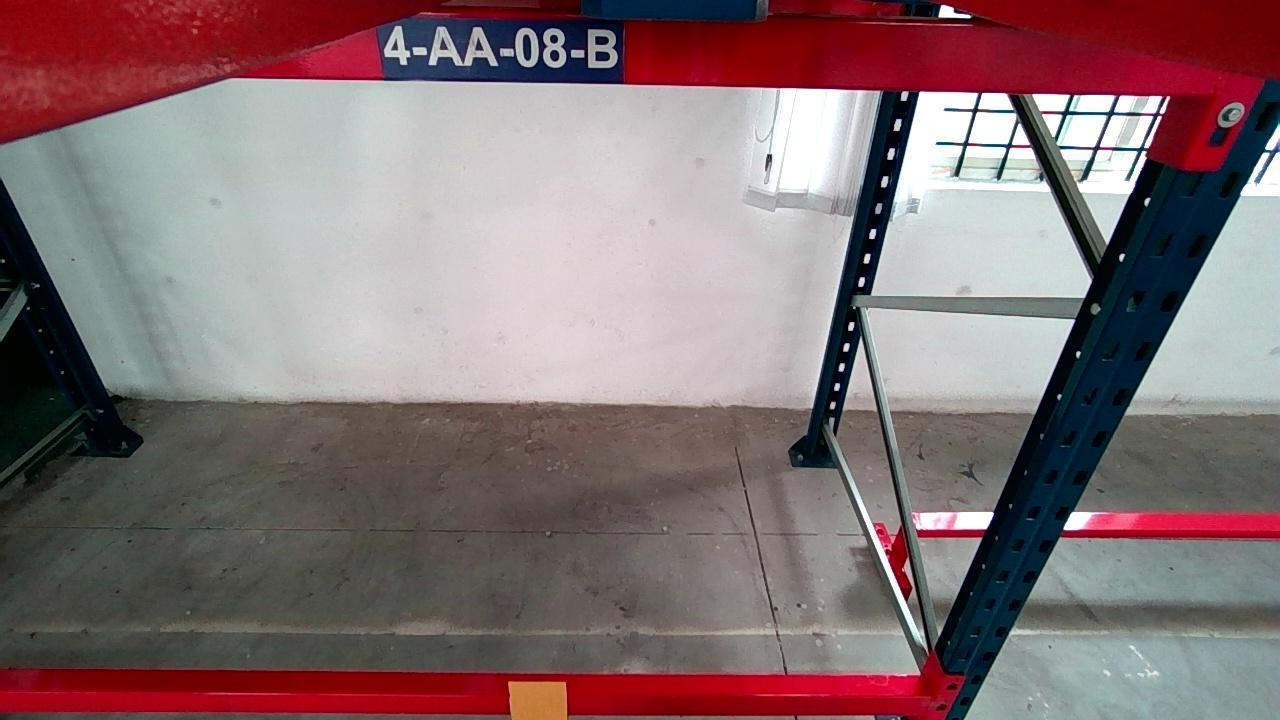h_rack: (228, 12, 1265, 94), (0, 689, 943, 718)
orange_strip: (506, 681, 565, 720)
